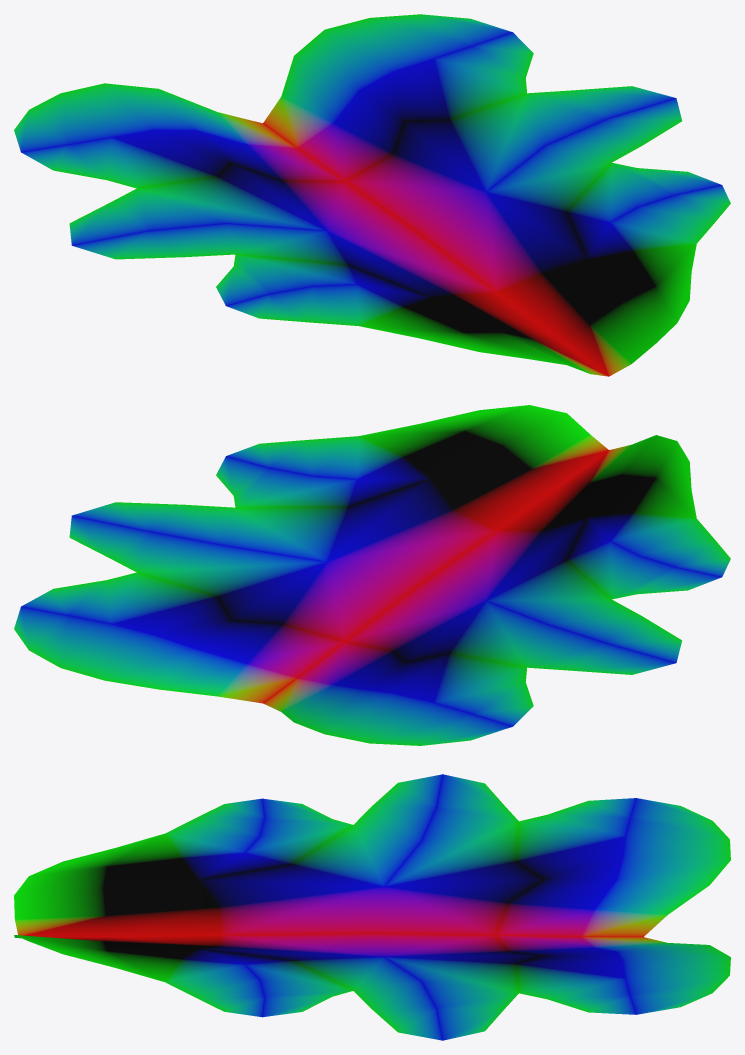
Rendered from Oak Leaf.fbx.
3 views of the same model, one above another, from view 1: azimuth 30°, elevation 25°; view 2: azimuth 150°, elevation 25°; view 3: azimuth 270°, elevation 25° (orthographic). The views are drawn at different scales.
Visible parts, largest first — view 1: Plane; view 2: Plane; view 3: Plane.
Part boxes in pixels (x1=…): Plane: x1=14, y1=14, x2=730, y2=376; Plane: x1=14, y1=405, x2=730, y2=745; Plane: x1=14, y1=774, x2=730, y2=1040.
Bounding box in the file's own units: 88.86 × 4.76 × 101.
